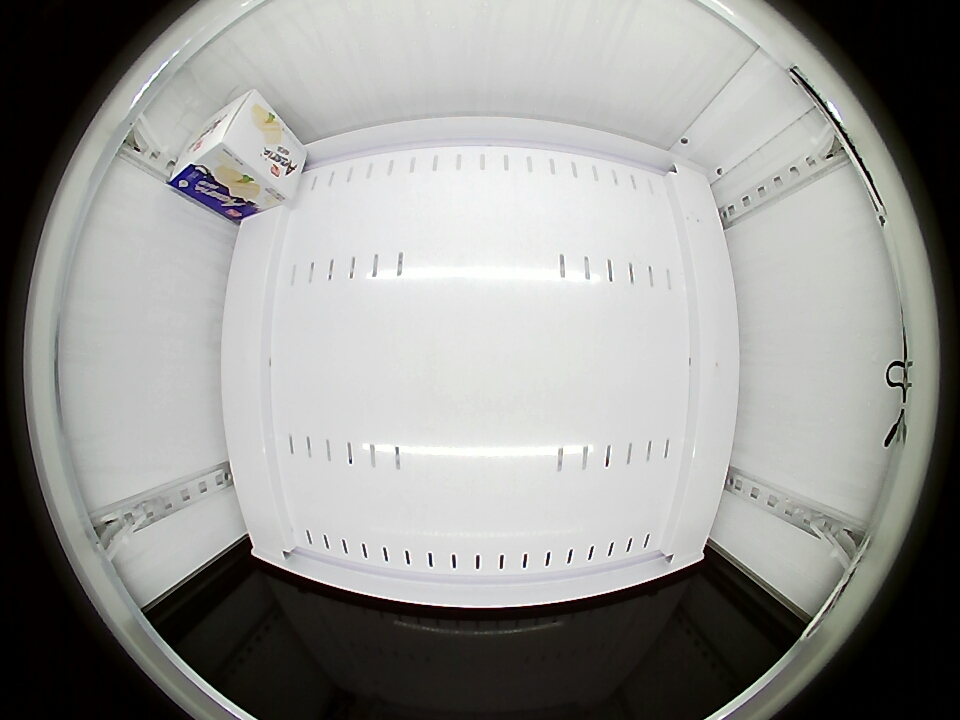meiniye: (168, 88, 275, 196)
